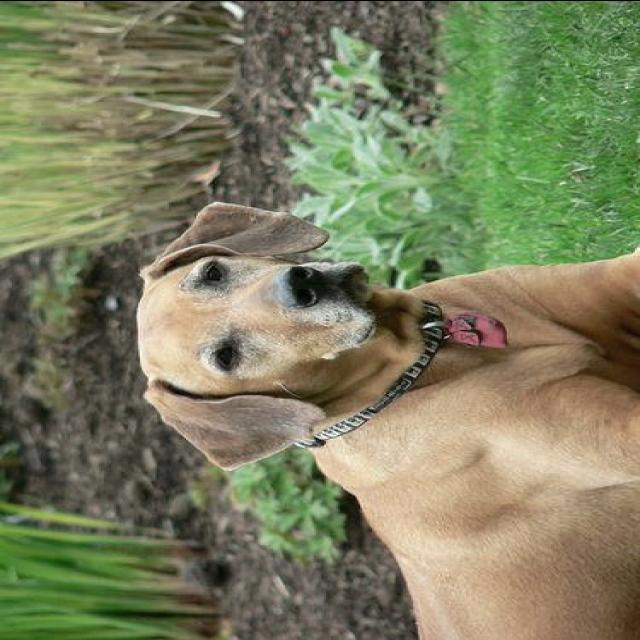rhodesian_ridgeback: (134, 197, 638, 639)
